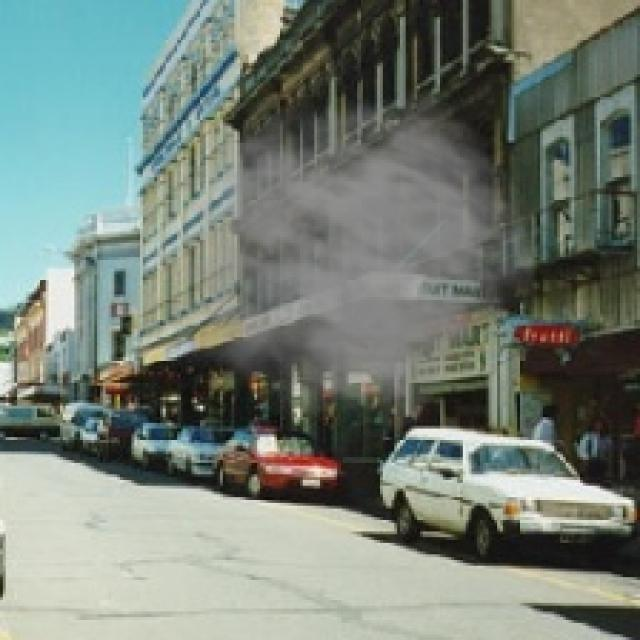Smoke: (145, 89, 540, 438)
